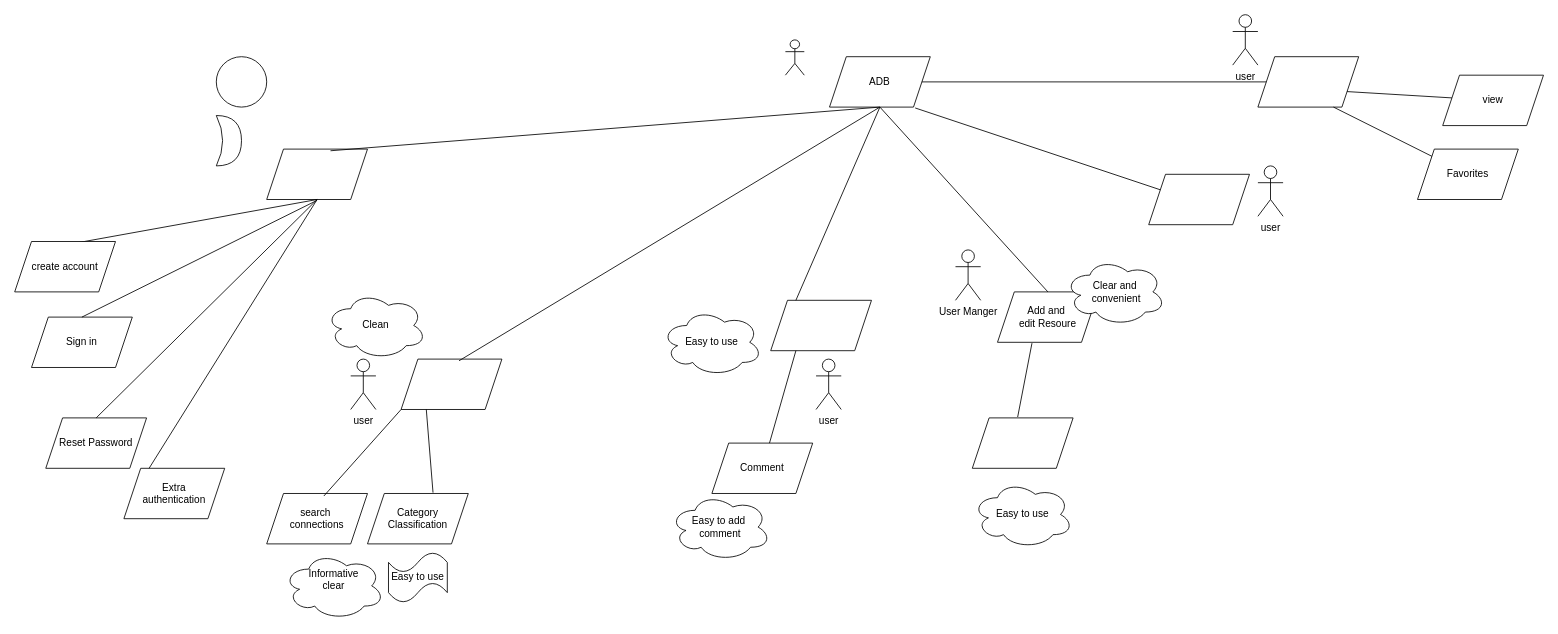
Some shapes in this 1558 by 634 pixel diagram are drawn without their labels. The centre of each missing label's shape, as x and y in pixels:
"Confidennt" belongs at [228,140].
"Dashboard" belongs at [451,384].
"Delete Comment" belongs at [1022,442].
"Feedback" belongs at [1199,199].
"Login" belongs at [317,174].
"Profile" belongs at [1308,81].
"Resource Page" belongs at [821,325].
"secure" belongs at [241,81].
"user managers" belongs at [794,57].
